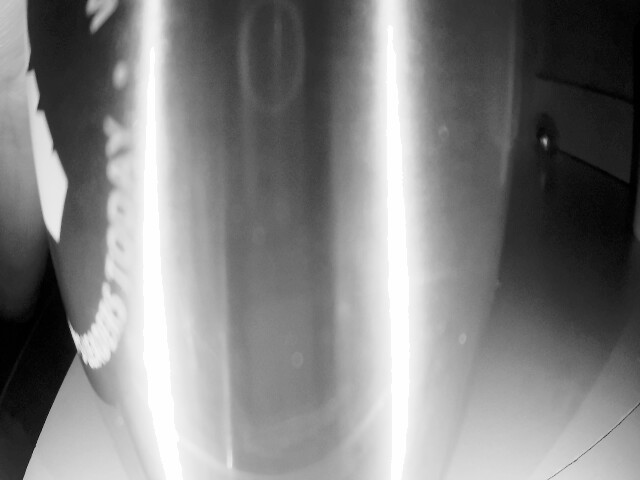silver: (532, 118, 561, 162)
